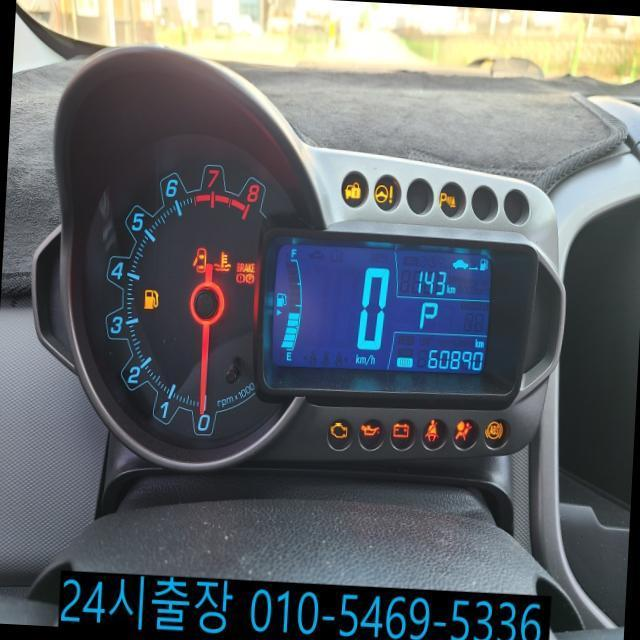Doors: (190, 246, 207, 272)
Engine cooling system: (212, 251, 231, 272)
Low fuel level: (142, 286, 159, 311)
